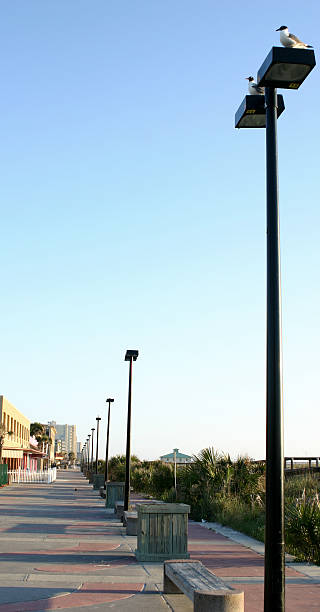light_pole: (256, 111, 290, 612), (122, 368, 134, 510)
